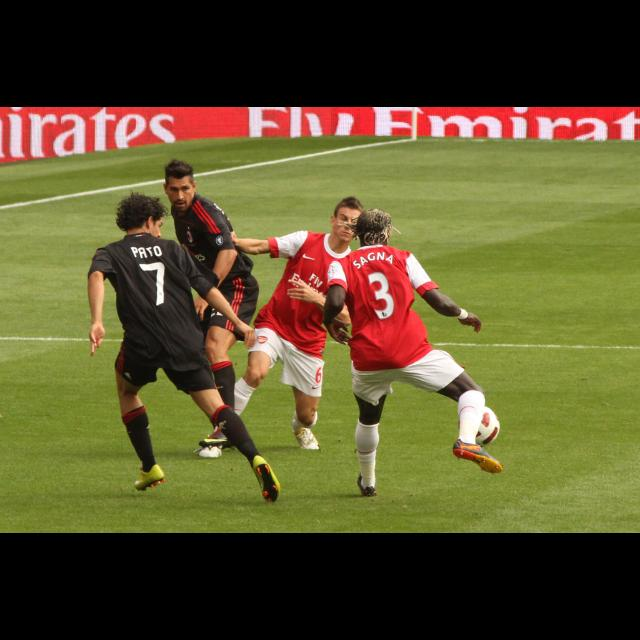Football: (473, 404, 503, 446)
